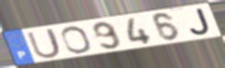4: (126, 16, 154, 45)
6: (152, 12, 182, 42)
9: (92, 21, 123, 50)
J: (188, 7, 213, 36)
O: (60, 25, 94, 55)
U: (25, 27, 63, 60)
